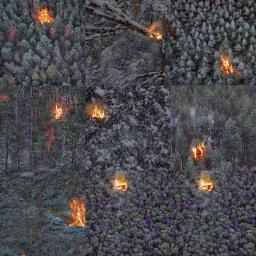Small fire: (185, 127, 220, 200), (29, 0, 67, 41), (63, 194, 97, 236), (36, 93, 77, 124), (213, 51, 245, 87), (141, 14, 172, 51), (102, 165, 132, 200), (87, 93, 115, 128)
